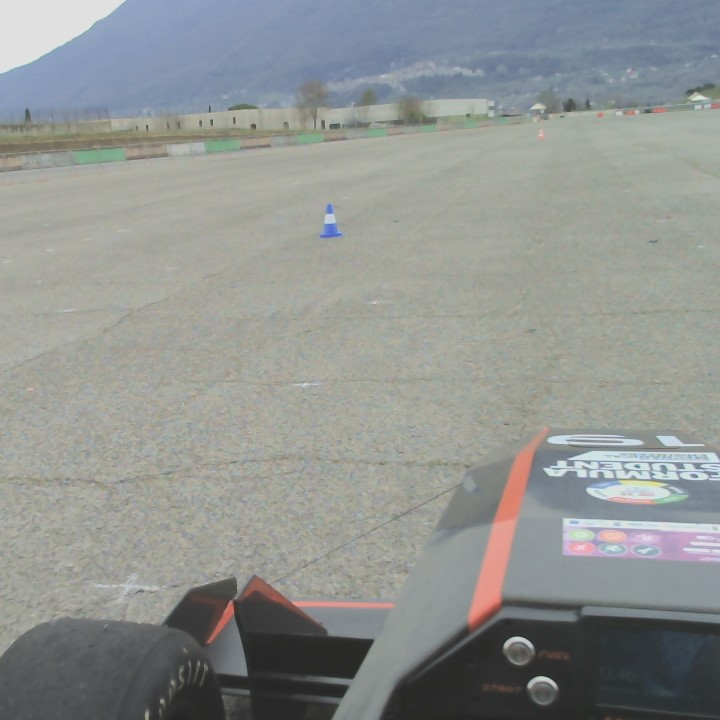cone: (319, 204, 342, 239)
